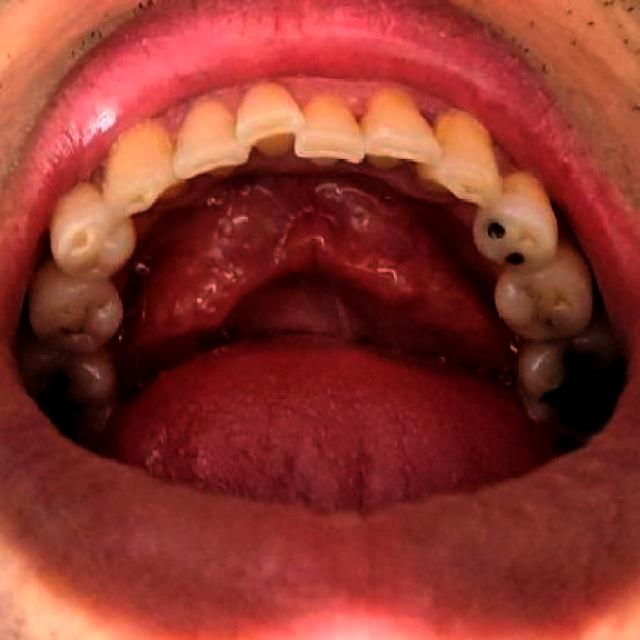Plaque: (52, 298, 103, 345), (525, 290, 560, 335)
